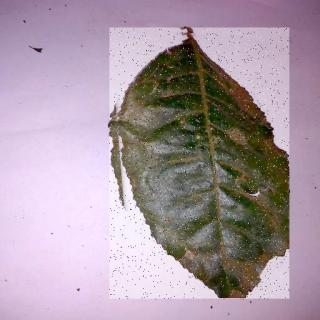Anthracnose: (111, 29, 291, 301)
